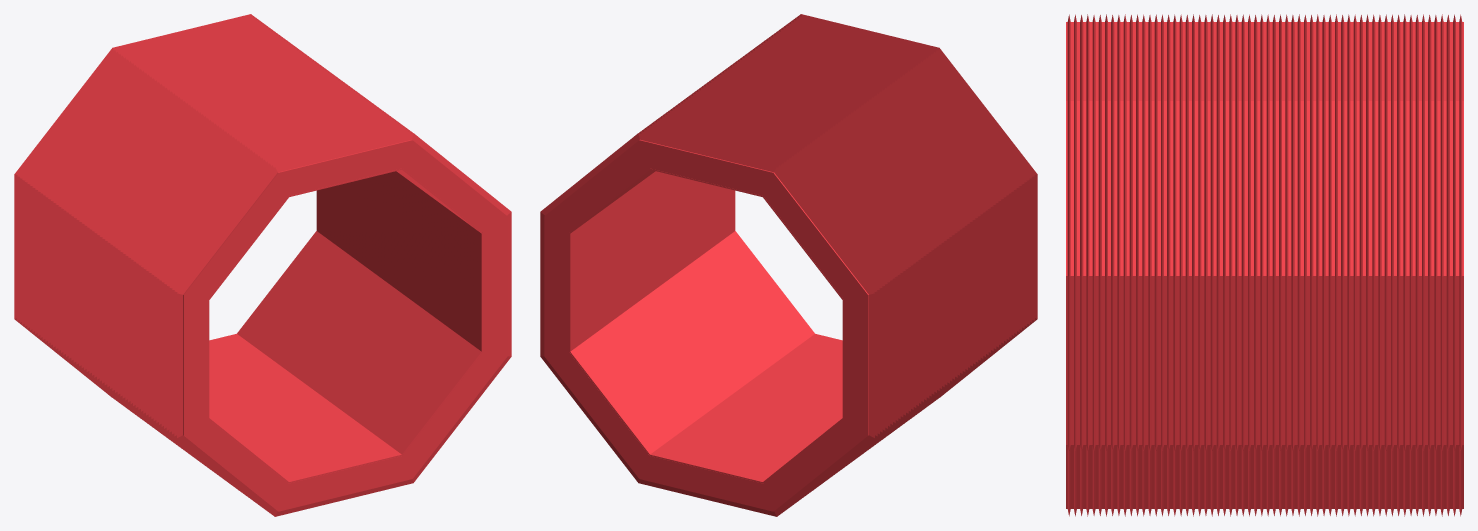
3 renders of one model, left to right at view 1: azimuth 30°, elevation 25°; view 2: azimuth 150°, elevation 25°; view 3: azimuth 270°, elevation 25°, orthographic. The views are drawn at different scales.
Visible parts, largest first — view 1: Mesh_1, Mesh_0; view 2: Mesh_1, Mesh_0; view 3: Mesh_1.
Boxes of the visible parts, <box> form: Mesh_1: <box>14,14,511,516</box>; Mesh_0: <box>208,168,482,483</box>; Mesh_1: <box>540,14,1037,516</box>; Mesh_0: <box>569,168,843,483</box>; Mesh_1: <box>1066,14,1463,516</box>.
Size of the model in its own units: 1374 by 1374 by 1175.
